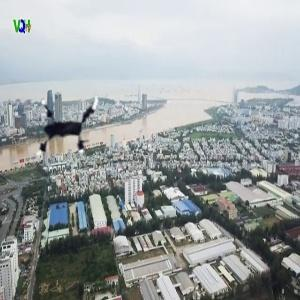drone: (11, 71, 113, 173)
